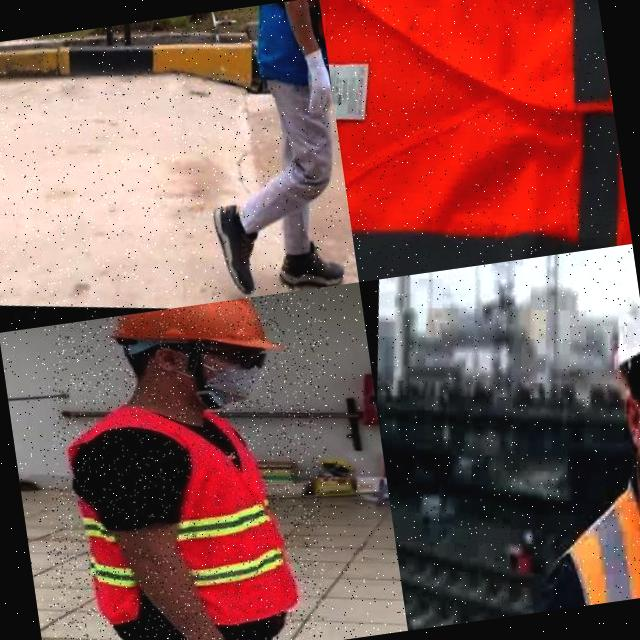boots: (198, 194, 274, 303), (270, 232, 352, 294)
helmet: (100, 294, 284, 372), (597, 243, 640, 393)
vest: (319, 0, 632, 282), (27, 378, 339, 640), (489, 451, 640, 616), (239, 0, 332, 102)
